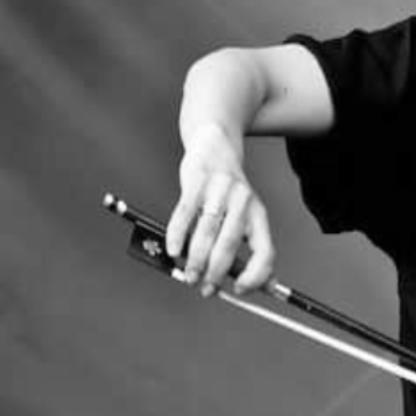bad: (148, 143, 292, 323)
